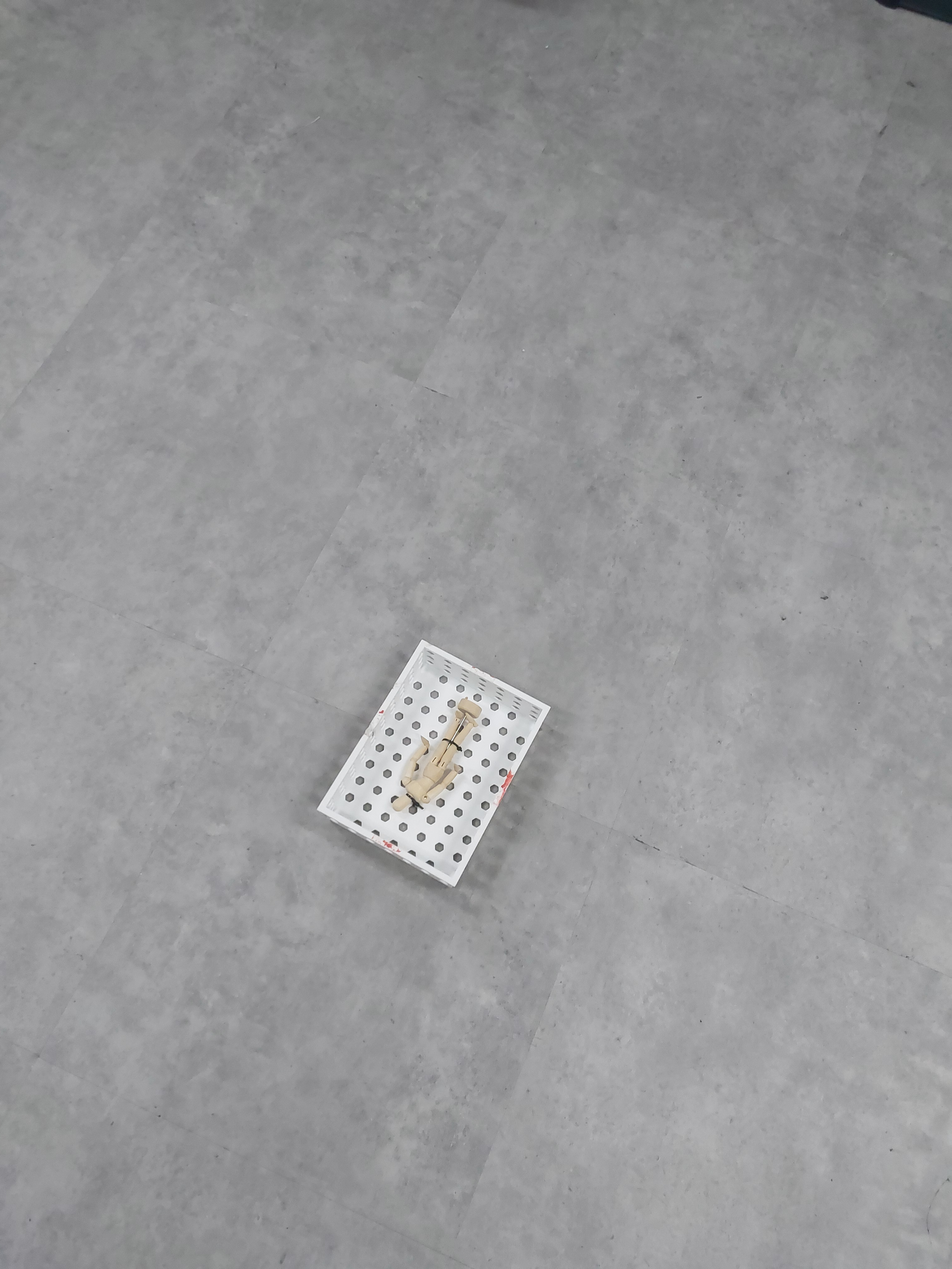basket: (313, 634, 554, 893)
mannequin: (388, 697, 484, 814)
